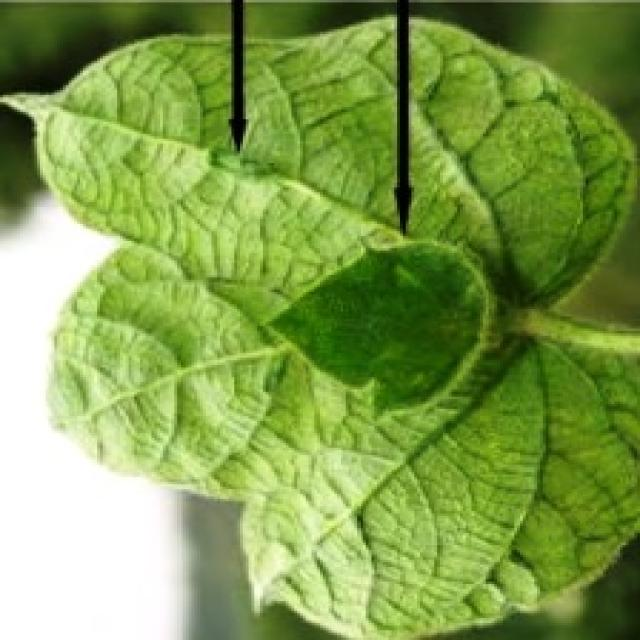Leaf Curl Virus: (152, 139, 577, 448)
